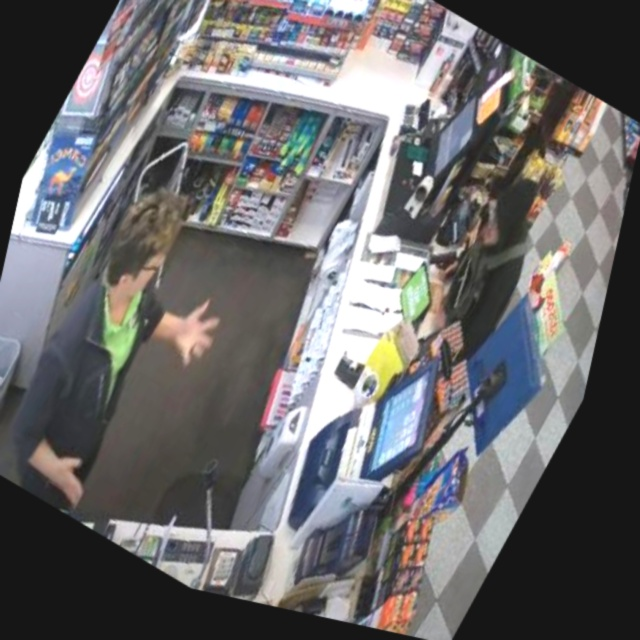gun: (419, 236, 468, 290)
